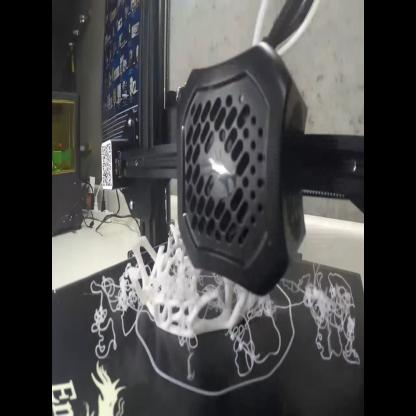fail: (186, 315, 279, 402), (296, 273, 365, 371), (83, 269, 145, 359)
